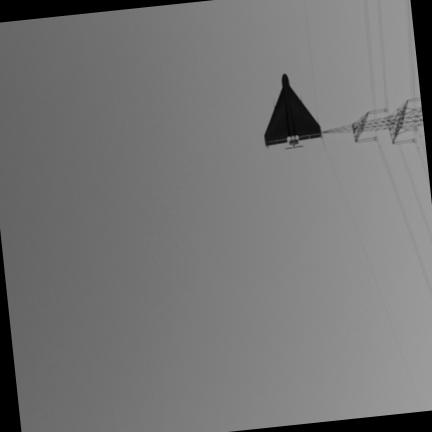Shahed: (264, 74, 322, 148)
